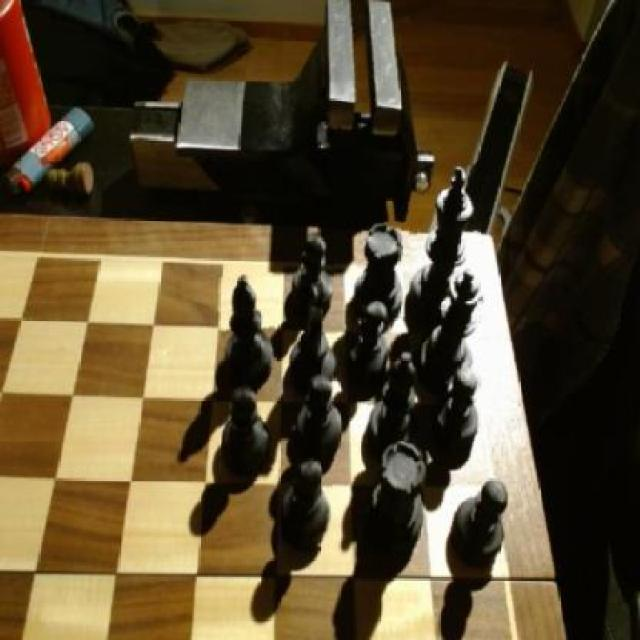bishop: (220, 274, 278, 387), (369, 351, 423, 457)
black-bishop: (410, 164, 482, 326)
black-king: (288, 277, 336, 390)
black-knight: (451, 476, 507, 574), (281, 457, 334, 547), (432, 370, 484, 456), (294, 376, 344, 462), (223, 388, 275, 470), (346, 300, 393, 390), (294, 234, 335, 317)
black-pawn: (418, 269, 484, 398)
black-queen: (366, 440, 427, 552), (357, 223, 405, 322)
